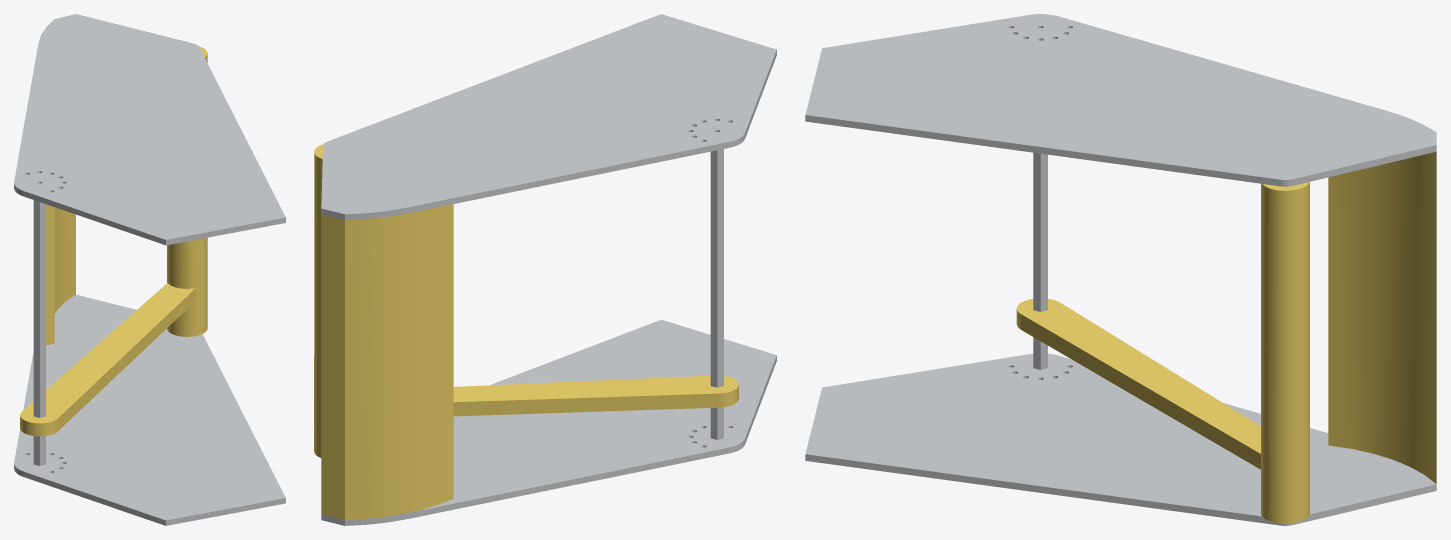
3 renders of one model, left to right at view 1: azimuth 30°, elevation 25°; view 2: azimuth 150°, elevation 25°; view 3: azimuth 270°, elevation 25°, orthographic. The views are drawn at different scales.
Parts seen in each view (by area): view 1: Left Intake Plate_16, Right Intake Plate_26, Intake Roller Second Belt_20, Intake Roller Backer_30, Intake Jackshaft_31, Intake Roller_14; view 2: Left Intake Plate_16, Intake Roller Backer_30, Right Intake Plate_26, Intake Roller Second Belt_20, Intake Jackshaft_31, Intake Roller_14; view 3: Left Intake Plate_16, Right Intake Plate_26, Intake Roller Backer_30, Intake Roller_14, Intake Roller Second Belt_20, Intake Jackshaft_31.
Boxes of the visible parts, x1=… form: Left Intake Plate_16: x1=14, y1=14, x2=285, y2=245; Right Intake Plate_26: x1=14, y1=294, x2=285, y2=525; Intake Roller Second Belt_20: x1=20, y1=283, x2=195, y2=436; Intake Roller Backer_30: x1=46, y1=204, x2=75, y2=345; Intake Jackshaft_31: x1=33, y1=200, x2=45, y2=465; Intake Roller_14: x1=167, y1=46, x2=207, y2=336; Left Intake Plate_16: x1=321, y1=14, x2=776, y2=220; Intake Roller Backer_30: x1=321, y1=204, x2=453, y2=519; Right Intake Plate_26: x1=321, y1=319, x2=776, y2=525; Intake Roller Second Belt_20: x1=453, y1=375, x2=738, y2=416; Intake Jackshaft_31: x1=710, y1=149, x2=723, y2=439; Intake Roller_14: x1=314, y1=144, x2=323, y2=457; Left Intake Plate_16: x1=805, y1=14, x2=1436, y2=186; Right Intake Plate_26: x1=805, y1=353, x2=1436, y2=525; Intake Roller Backer_30: x1=1328, y1=151, x2=1436, y2=483; Intake Roller_14: x1=1261, y1=182, x2=1309, y2=523; Intake Roller Second Belt_20: x1=1016, y1=299, x2=1260, y2=469; Intake Jackshaft_31: x1=1033, y1=152, x2=1047, y2=369.
Bounding box in the file's own units: 0.3485 × 0.3302 × 0.5461.
